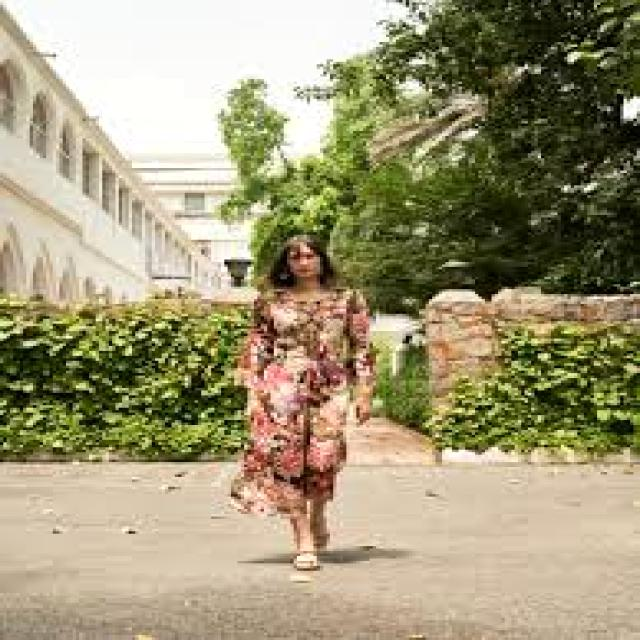dress: (231, 290, 376, 513)
